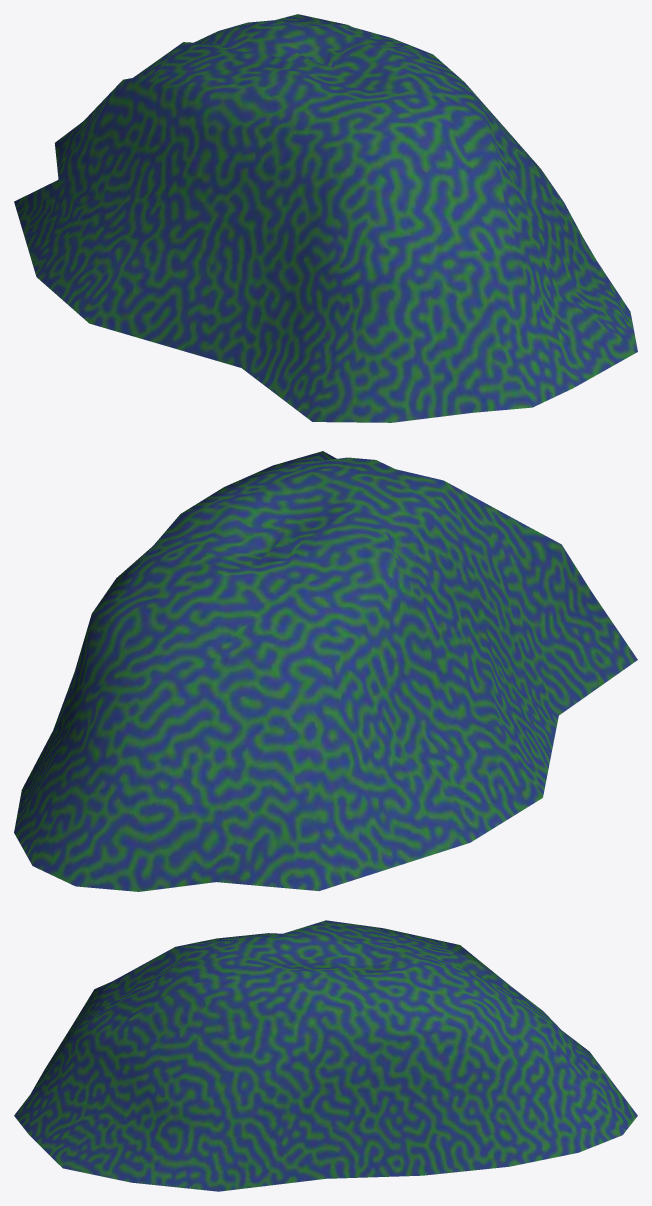
The model's file is sf_brain_coral.glb.
3 views of the same model, one above another, from view 1: azimuth 30°, elevation 25°; view 2: azimuth 150°, elevation 25°; view 3: azimuth 270°, elevation 25° (orthographic). The views are drawn at different scales.
Parts seen in each view (by area): view 1: brain1; view 2: brain1; view 3: brain1.
Boxes of the visible parts, x1=… form: brain1: x1=14, y1=14, x2=637, y2=422; brain1: x1=14, y1=451, x2=637, y2=891; brain1: x1=14, y1=920, x2=637, y2=1191.
Size of the model in its own units: 6.8 by 3.01 by 10.5.
1 material, 1 textured.
